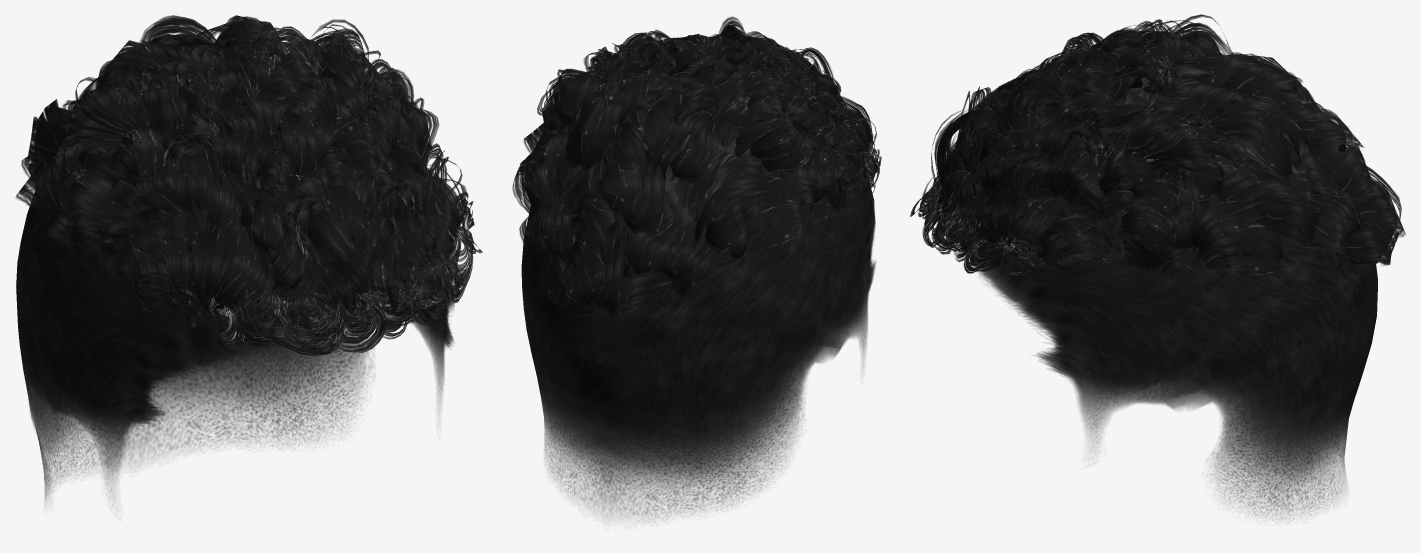
The model's file is oval_curly_03 TaperFade.glb.
3 views of the same model, side by side, from view 1: azimuth 30°, elevation 25°; view 2: azimuth 150°, elevation 25°; view 3: azimuth 270°, elevation 25° (orthographic). The views are drawn at different scales.
Visible parts, largest first — view 1: CURLY_UNDERCUT base.006, Scalp.021; view 2: Scalp.021, CURLY_UNDERCUT base.006; view 3: CURLY_UNDERCUT base.006, Scalp.021.
Part boxes in pixels (bbox=[...]): CURLY_UNDERCUT base.006: bbox=[15, 15, 482, 355]; Scalp.021: bbox=[16, 56, 454, 500]; Scalp.021: bbox=[521, 66, 875, 519]; CURLY_UNDERCUT base.006: bbox=[512, 16, 881, 318]; CURLY_UNDERCUT base.006: bbox=[910, 14, 1405, 275]; Scalp.021: bbox=[949, 66, 1377, 520].
Size of the model in its own units: 0.1885 by 0.2547 by 0.2503.
Materials: 2 (2 with a texture image).
